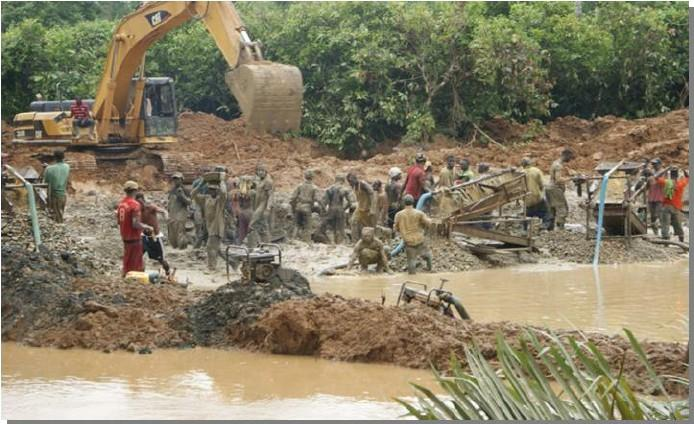ExcavationMachinery: (11, 1, 309, 184)
MiningTool: (199, 170, 230, 184)
Person: (189, 170, 242, 276), (393, 194, 436, 275), (135, 194, 175, 279), (654, 162, 690, 247), (116, 180, 148, 273), (545, 149, 577, 233), (320, 172, 355, 247), (345, 167, 377, 247), (247, 165, 277, 250), (349, 225, 398, 275), (290, 167, 320, 246), (164, 172, 190, 250), (644, 158, 668, 236), (519, 157, 548, 220), (42, 153, 69, 218), (403, 152, 430, 205), (69, 94, 96, 141), (384, 166, 406, 218), (368, 179, 388, 230), (229, 175, 243, 237), (243, 178, 255, 243), (437, 153, 457, 187), (457, 159, 474, 182), (477, 161, 491, 179)
ProcessingEquiment: (428, 170, 537, 255), (583, 158, 652, 240), (2, 162, 55, 214)
